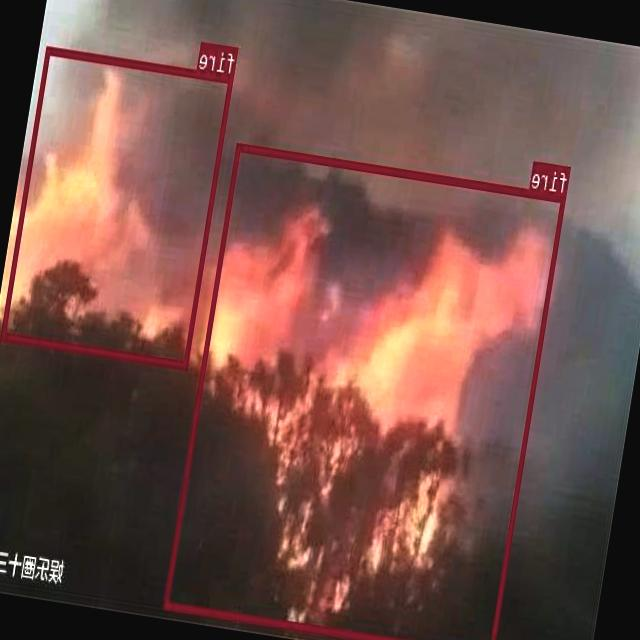fire: (164, 143, 567, 640), (2, 46, 234, 370)
